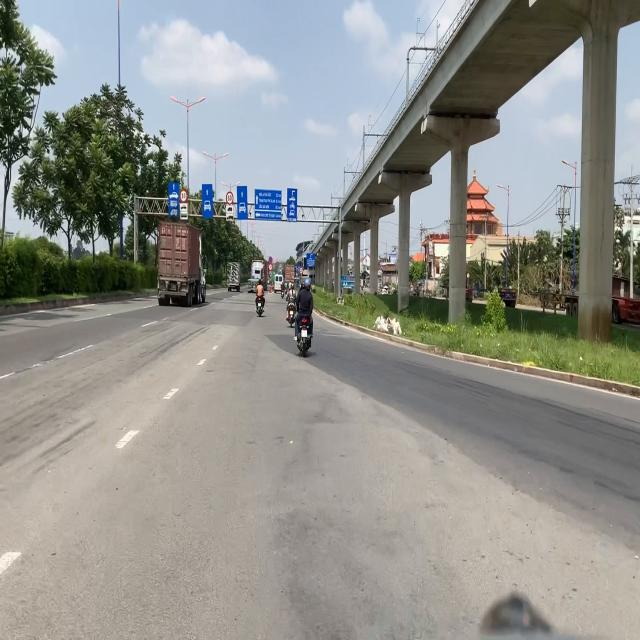Cam dung va do: (268, 256, 272, 264)
Toc do toi da: (226, 191, 234, 205), (180, 189, 187, 203)
